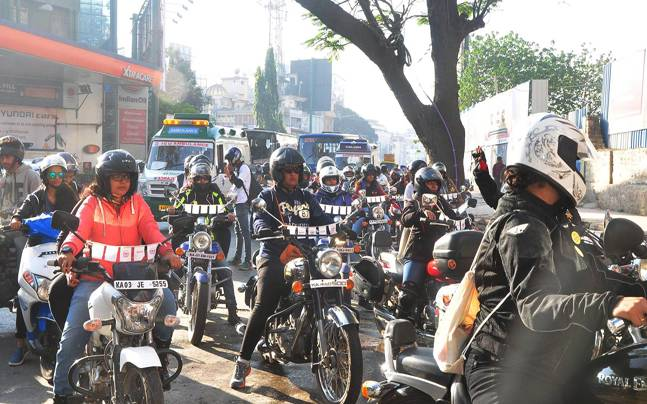helmet: (93, 149, 138, 192), (268, 149, 305, 187), (187, 164, 213, 190), (316, 166, 342, 192)
